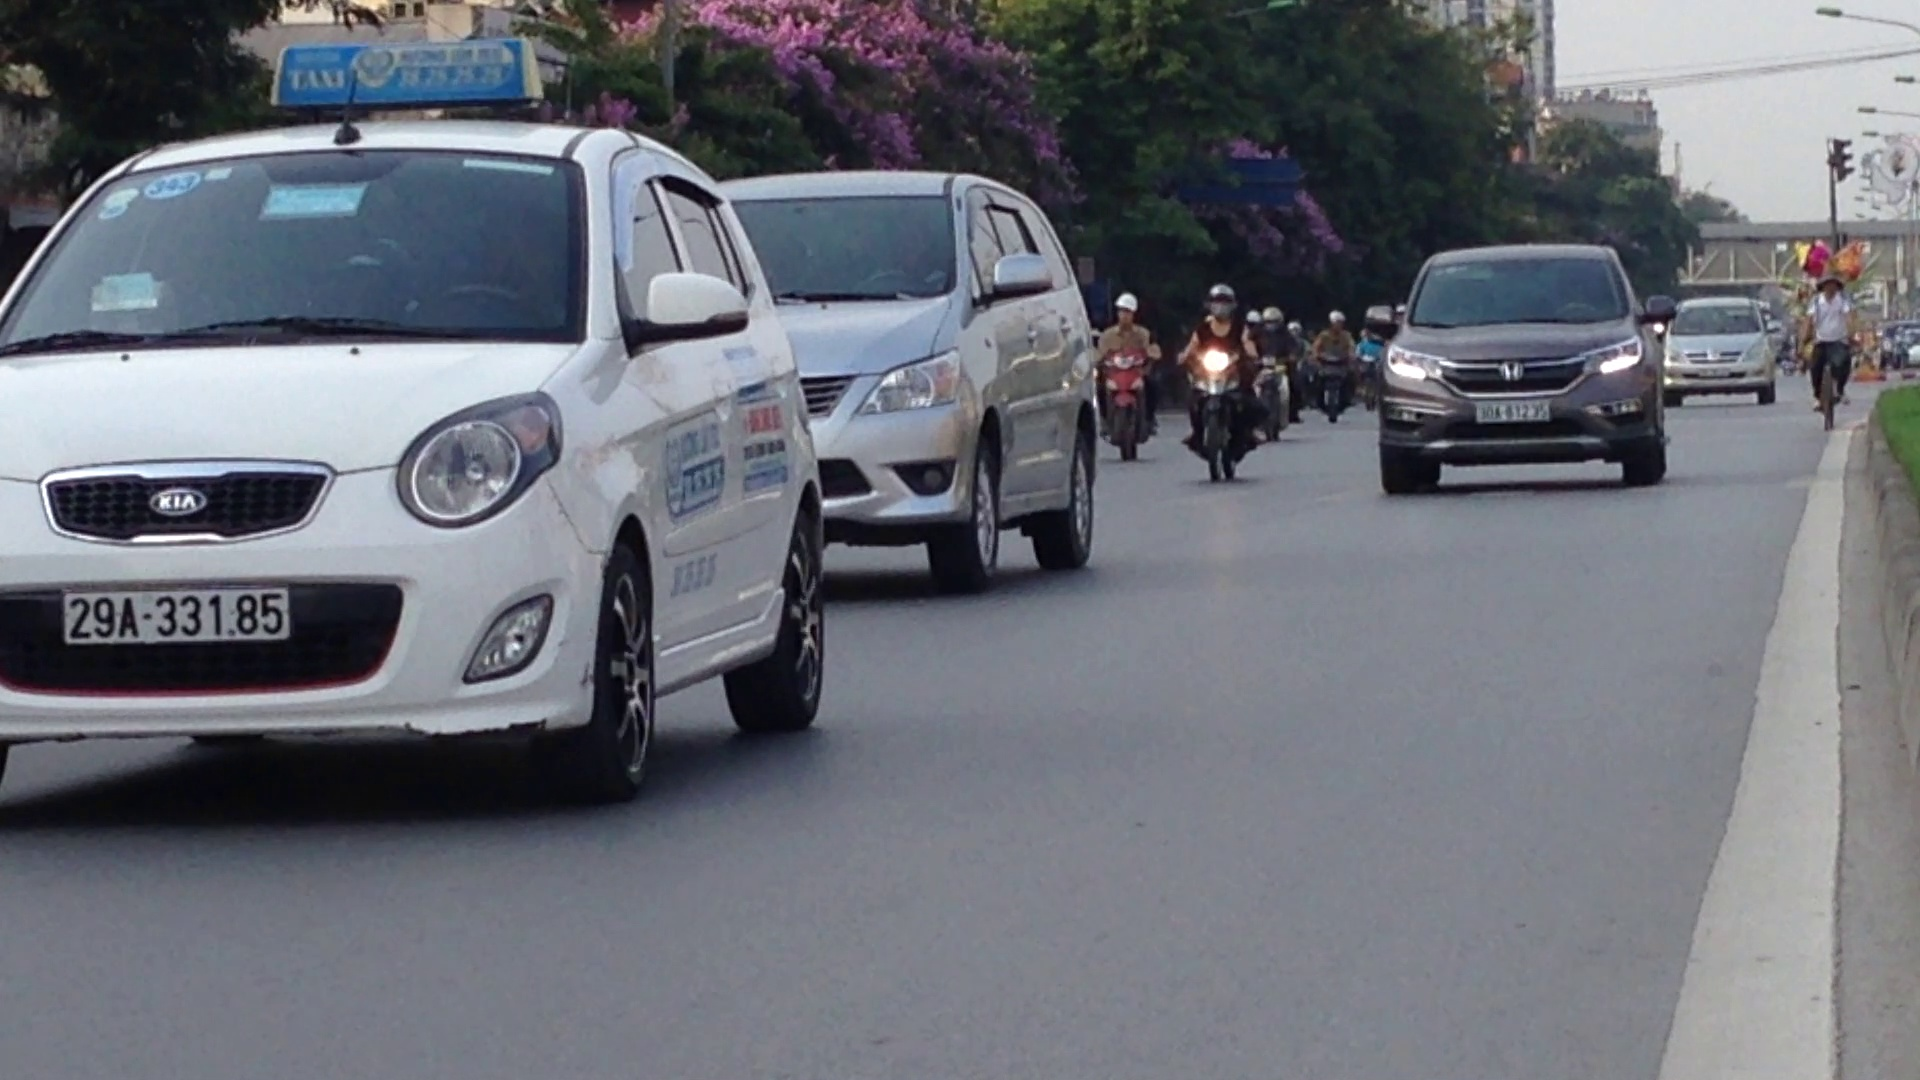vehicle-plate: (56, 586, 296, 643), (1473, 396, 1555, 424)
